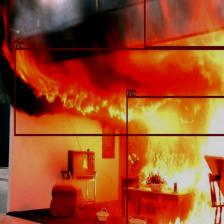fire: (14, 48, 224, 136), (126, 95, 224, 224), (144, 0, 224, 48)
